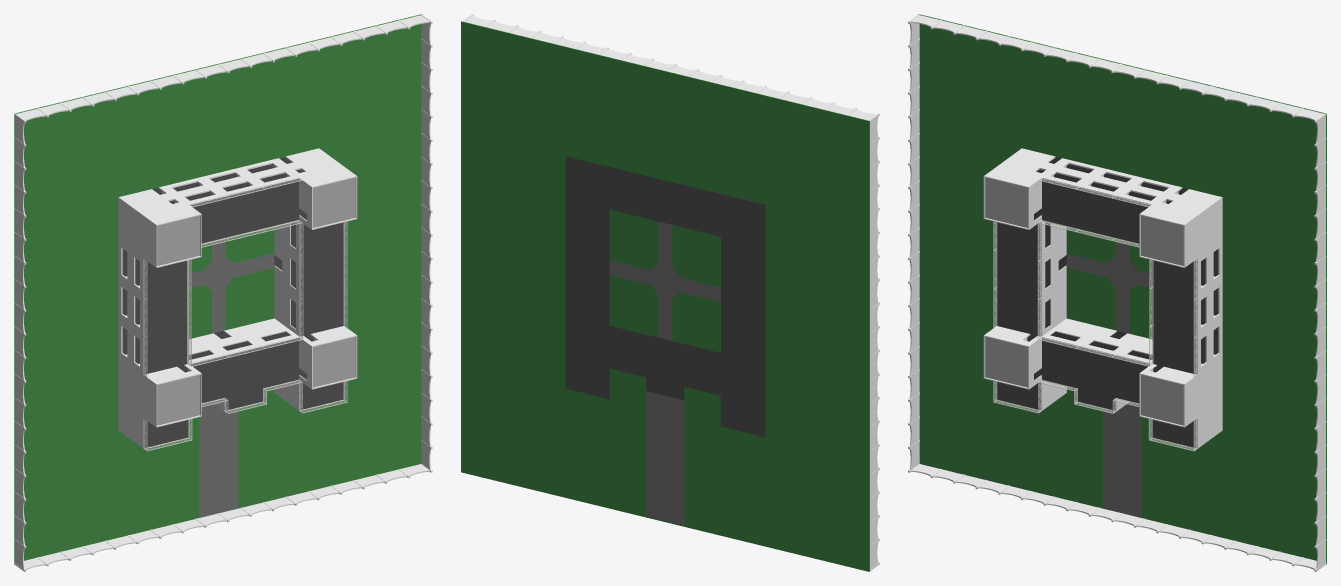
The model's file is YANDERE SIMULATOR TEST.fbx.
3 renders of one model, left to right at view 1: azimuth 30°, elevation 25°; view 2: azimuth 150°, elevation 25°; view 3: azimuth 330°, elevation 25°, orthographic.
Visible parts, largest first — view 1: Body177, Body152, Body83, Body485, Body160, Body155, Body173, Body174, Body175, Body176, Body1, Body171 (+2 smaller); view 2: Body177, Body82, Body485, Body155, Body160, Body171, Body156, Body159; view 3: Body177, Body152, Body83, Body485, Body155, Body159, Body174, Body173, Body176, Body175, Body1, Body156 (+2 smaller).
Part boxes in pixels (left/top/right/bottom): Body177: left=14, top=14, right=422, bottom=564; Body152: left=118, top=148, right=357, bottom=448; Body83: left=144, top=179, right=343, bottom=447; Body485: left=199, top=402, right=238, bottom=517; Body160: left=225, top=268, right=274, bottom=329; Body155: left=189, top=239, right=274, bottom=333; Body173: left=157, top=374, right=199, bottom=425; Body174: left=313, top=337, right=355, bottom=387; Body175: left=157, top=215, right=199, bottom=265; Body176: left=313, top=177, right=355, bottom=227; Body1: left=135, top=169, right=304, bottom=363; Body171: left=225, top=227, right=274, bottom=262; Body177: left=461, top=21, right=869, bottom=571; Body82: left=565, top=156, right=765, bottom=437; Body485: left=645, top=391, right=684, bottom=525; Body155: left=609, top=221, right=720, bottom=340; Body160: left=609, top=275, right=658, bottom=337; Body171: left=609, top=210, right=658, bottom=270; Body156: left=672, top=225, right=720, bottom=287; Body159: left=672, top=292, right=720, bottom=352; Body177: left=918, top=14, right=1326, bottom=564; Body152: left=983, top=148, right=1222, bottom=448; Body83: left=997, top=179, right=1196, bottom=447; Body485: left=1102, top=402, right=1141, bottom=517; Body155: left=1066, top=239, right=1152, bottom=333; Body159: left=1066, top=268, right=1115, bottom=329; Body174: left=1141, top=374, right=1183, bottom=425; Body173: left=985, top=337, right=1027, bottom=387; Body176: left=1141, top=215, right=1183, bottom=265; Body175: left=985, top=177, right=1027, bottom=227; Body1: left=1036, top=169, right=1205, bottom=363; Body156: left=1066, top=227, right=1115, bottom=262.
Bounding box in the file's own units: 2821 × 2976 × 462.
